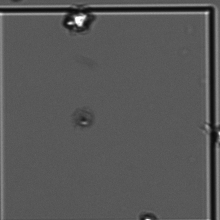Dead Cell: (70, 107, 97, 129)
Living Cell: (61, 5, 97, 32)
